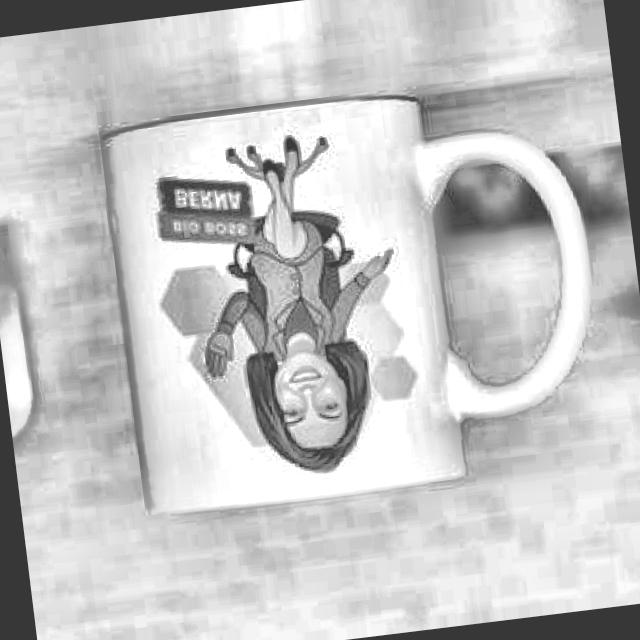Mug: (92, 64, 618, 522)
